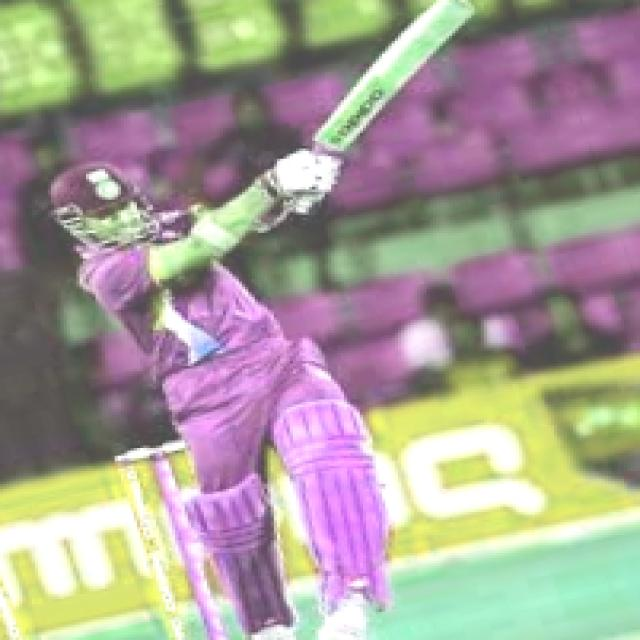toe: (419, 0, 473, 35)
